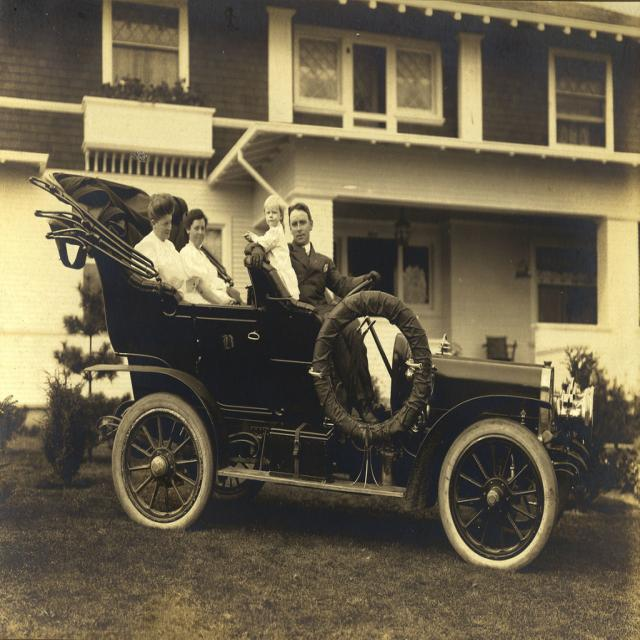car: (28, 173, 600, 577)
